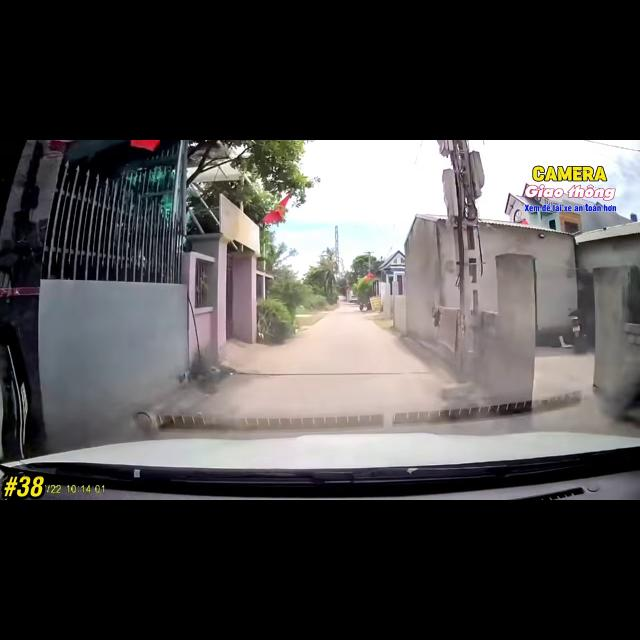motorcycle: (568, 306, 592, 354)
